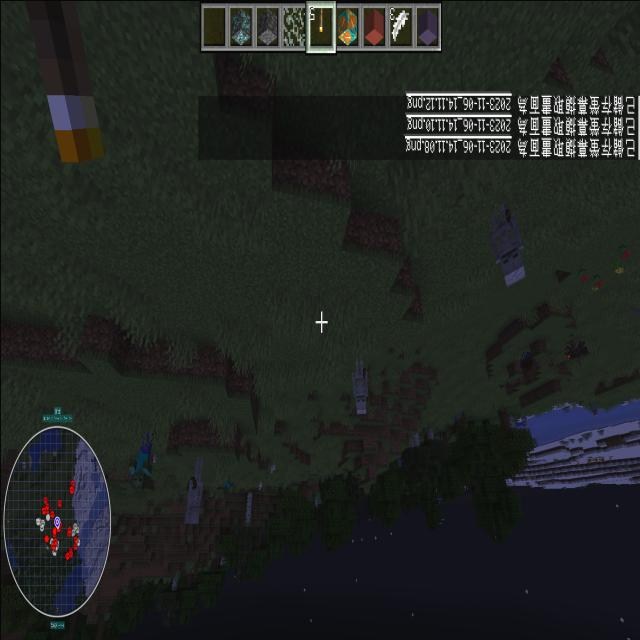Skeleton: (482, 192, 530, 296), (180, 446, 207, 532), (347, 344, 373, 424), (518, 408, 528, 432)
Spider: (561, 336, 589, 364)
Zombie: (126, 420, 156, 497), (220, 468, 234, 498)
chicken: (268, 458, 278, 477), (254, 476, 264, 493)
